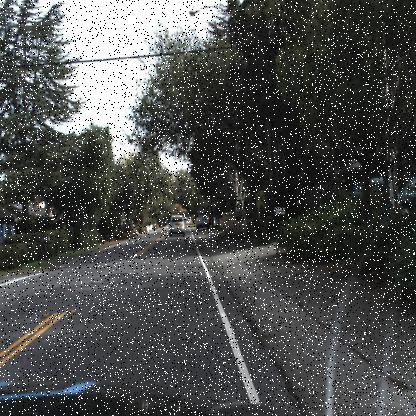car: (167, 214, 186, 237), (194, 209, 212, 232)
